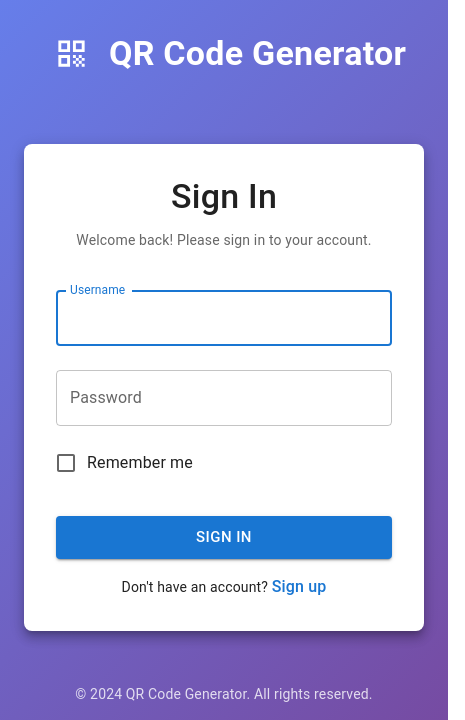
Test: LoginForm › validates password length
Type "123" into the password field labelled "Password".
click(224, 398); type("123")  # box [56,370,392,426]
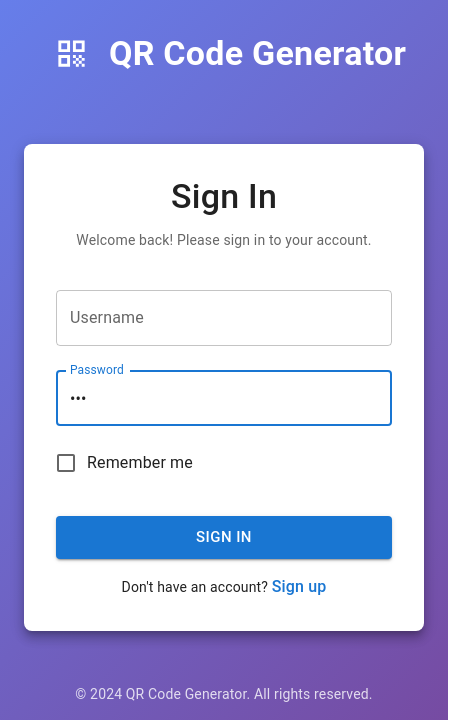
Click the button "Sign In".
click(224, 537)  # box [56,516,392,559]
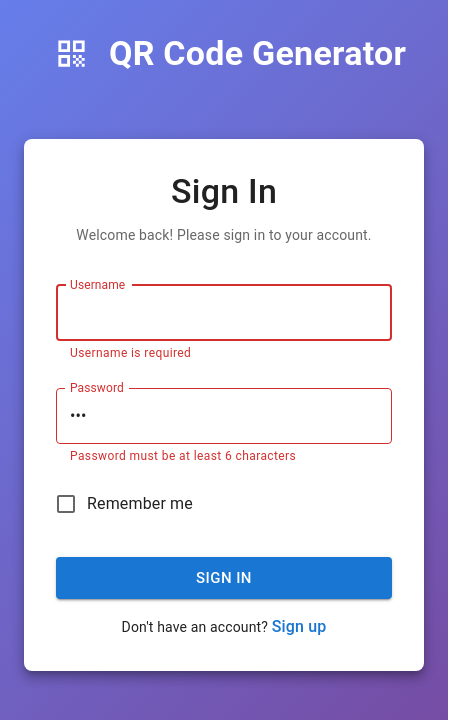
expect the text "Password must be at least 6 characters" is shown: met, box [70,449,296,463]
